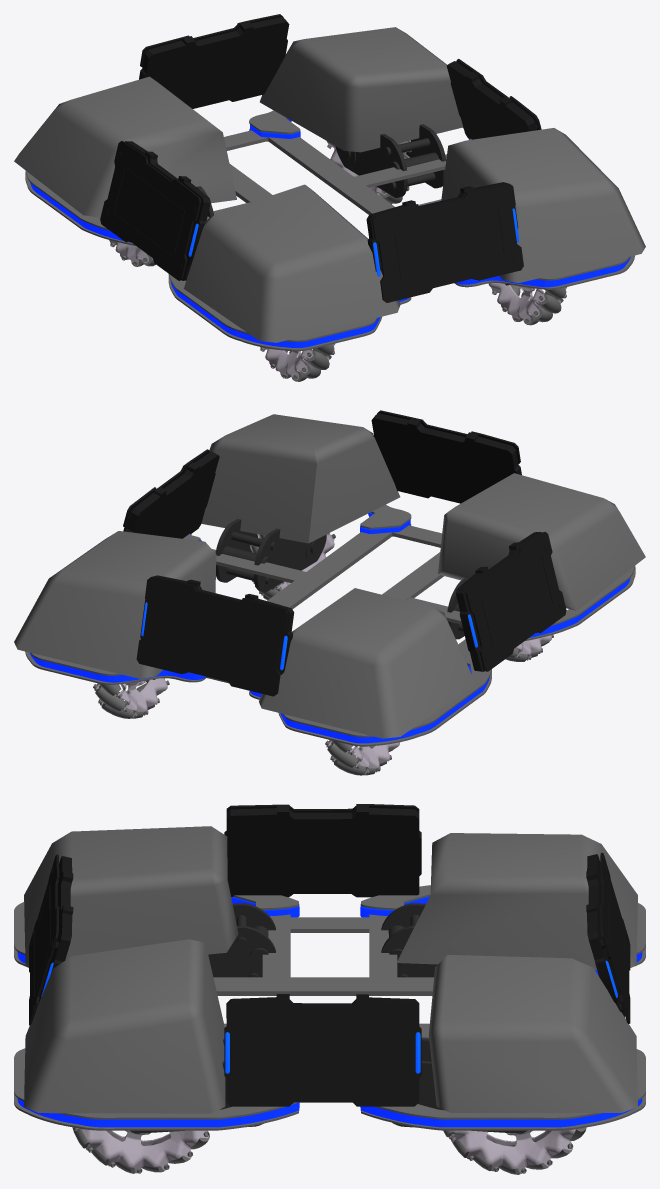
Rendered from hero_base.glb.
The picture shows the model from 3 angles, top to bottom: view 1: azimuth 30°, elevation 25°; view 2: azimuth 150°, elevation 25°; view 3: azimuth 270°, elevation 25°; orthographic projection. The views are drawn at different scales.
Parts seen in each view (by area): view 1: 保护壳, 面板.002, 防撞圈, 底板.003, 面板.001, 底板, 左后悬挂, 夹层, 麦克纳姆轮_2, 底板.001, 麦克纳姆轮_4, 辊子_2 (+3 smaller); view 2: 保护壳, 面板.003, 防撞圈, 底板.002, 面板.001, 底板, 左前悬挂, 夹层, 底板.001, 麦克纳姆轮, 底板.003, 辊子 (+4 smaller); view 3: 保护壳, 面板, 防撞圈, 底板.001, 夹层, 麦克纳姆轮, 麦克纳姆轮_2, 右前悬挂, 面板.003, 面板.002, 底板.003, 右后悬挂 (+6 smaller).
Part boxes in pixels (left/top/right/bottom): 保护壳: left=14, top=27, right=645, bottom=342; 面板.002: left=372, top=183, right=523, bottom=302; 防撞圈: left=25, top=110, right=634, bottom=351; 底板.003: left=139, top=17, right=289, bottom=108; 面板.001: left=100, top=141, right=201, bottom=280; 底板: left=446, top=61, right=536, bottom=139; 左后悬挂: left=335, top=124, right=446, bottom=197; 夹层: left=30, top=118, right=630, bottom=347; 麦克纳姆轮_2: left=488, top=283, right=566, bottom=323; 底板.001: left=125, top=141, right=210, bottom=280; 麦克纳姆轮_4: left=260, top=343, right=335, bottom=380; 辊子_2: left=492, top=284, right=566, bottom=325; 保护壳: left=14, top=414, right=645, bottom=738; 面板.003: left=136, top=576, right=288, bottom=696; 防撞圈: left=25, top=504, right=635, bottom=746; 底板.002: left=371, top=413, right=521, bottom=503; 面板.001: left=465, top=531, right=566, bottom=671; 底板: left=125, top=451, right=219, bottom=538; 左前悬挂: left=215, top=519, right=326, bottom=592; 夹层: left=30, top=512, right=630, bottom=743; 底板.001: left=456, top=532, right=542, bottom=671; 麦克纳姆轮: left=94, top=678, right=167, bottom=717; 底板.003: left=140, top=575, right=294, bottom=674; 辊子: left=93, top=680, right=169, bottom=718; 保护壳: left=24, top=826, right=637, bottom=1113; 面板: left=226, top=999, right=419, bottom=1106; 防撞圈: left=14, top=885, right=645, bottom=1130; 底板.001: left=224, top=805, right=421, bottom=897; 夹层: left=17, top=896, right=642, bottom=1127; 麦克纳姆轮: left=449, top=1128, right=583, bottom=1173; 麦克纳姆轮_2: left=73, top=1127, right=209, bottom=1173; 右前悬挂: left=208, top=903, right=275, bottom=977; 面板.003: left=600, top=852, right=630, bottom=1023; 面板.002: left=29, top=854, right=59, bottom=1025; 底板.003: left=586, top=854, right=624, bottom=1017; 右后悬挂: left=381, top=903, right=437, bottom=977.
Size of the model in its own units: 0.8141 by 0.3454 by 0.9288.
